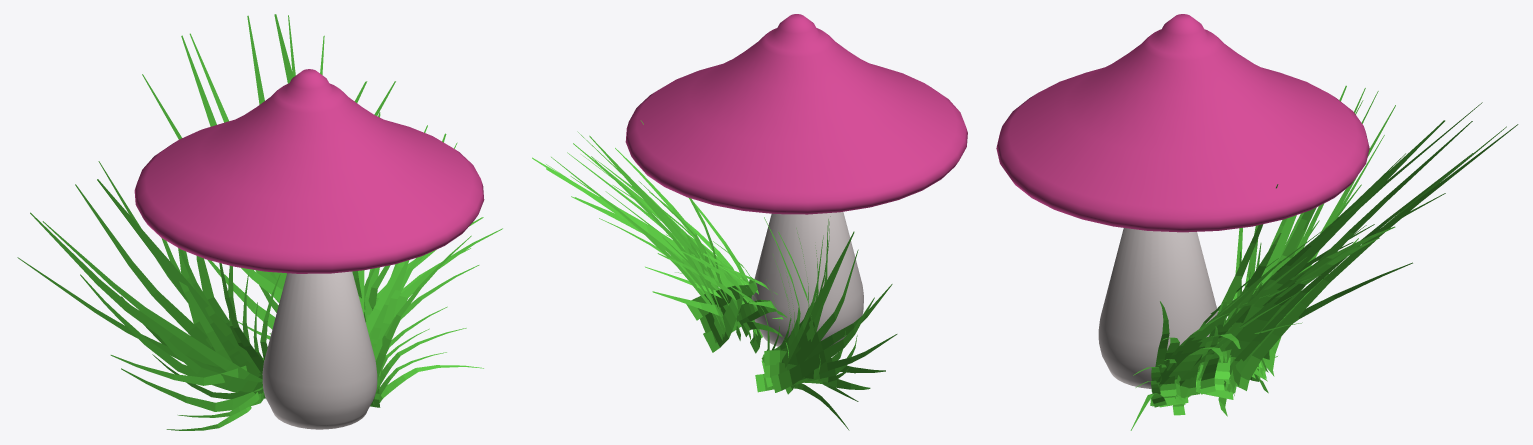
Rendered from mushrooms6.fbx.
3 views of the same model, side by side, from view 1: azimuth 30°, elevation 25°; view 2: azimuth 150°, elevation 25°; view 3: azimuth 270°, elevation 25° (orthographic). The views are drawn at different scales.
Visible parts, largest first — view 1: Cylinder.001, Plane.000, Plane.014, Plane.001; view 2: Cylinder.001, Plane.001, Plane.000, Plane.014; view 3: Cylinder.001, Plane.001, Plane.014, Plane.000.
Part boxes in pixels (left/top/right/bottom): Cylinder.001: left=134, top=69, right=484, bottom=429; Plane.000: left=17, top=161, right=280, bottom=430; Plane.014: left=269, top=113, right=502, bottom=407; Plane.001: left=142, top=14, right=470, bottom=360; Cylinder.001: left=625, top=14, right=967, bottom=346; Plane.001: left=532, top=120, right=788, bottom=357; Plane.000: left=723, top=216, right=897, bottom=430; Plane.014: left=546, top=143, right=783, bottom=353; Cylinder.001: left=996, top=14, right=1369, bottom=388; Plane.001: left=1196, top=102, right=1518, bottom=416; Plane.014: left=1130, top=225, right=1366, bottom=430; Plane.000: left=1233, top=85, right=1395, bottom=393.
Size of the model in its own units: 637 by 537 by 652.
